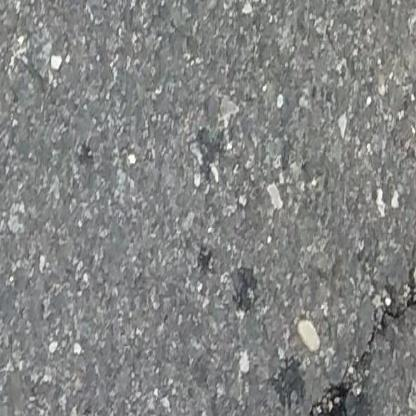Cracks: (277, 134, 416, 416)
